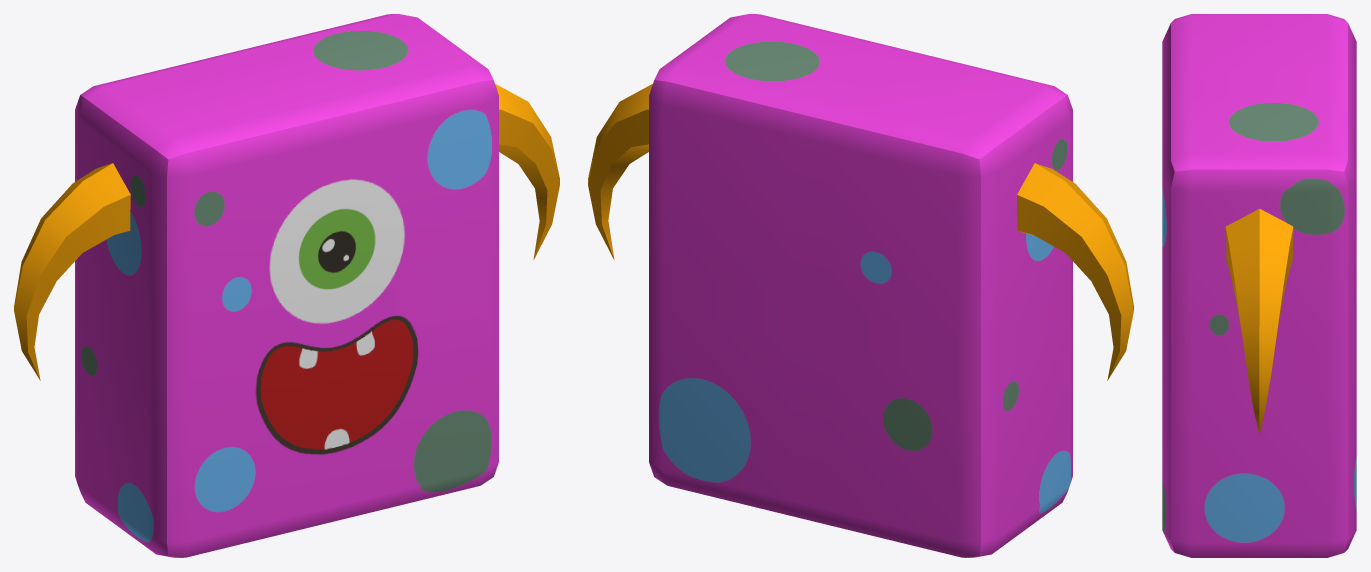
Rendered from Clown.fbx.
3 views of the same model, side by side, from view 1: azimuth 30°, elevation 25°; view 2: azimuth 150°, elevation 25°; view 3: azimuth 270°, elevation 25° (orthographic). The views are drawn at different scales.
Parts seen in each view (by area): view 1: RareJelly; view 2: RareJelly; view 3: RareJelly.
Boxes of the visible parts, x1,y1,x2,y2 form: RareJelly: (14, 14, 559, 557); RareJelly: (588, 14, 1133, 557); RareJelly: (1162, 14, 1356, 557).
Bounding box in the file's own units: 10.61 × 7.81 × 3.4.
